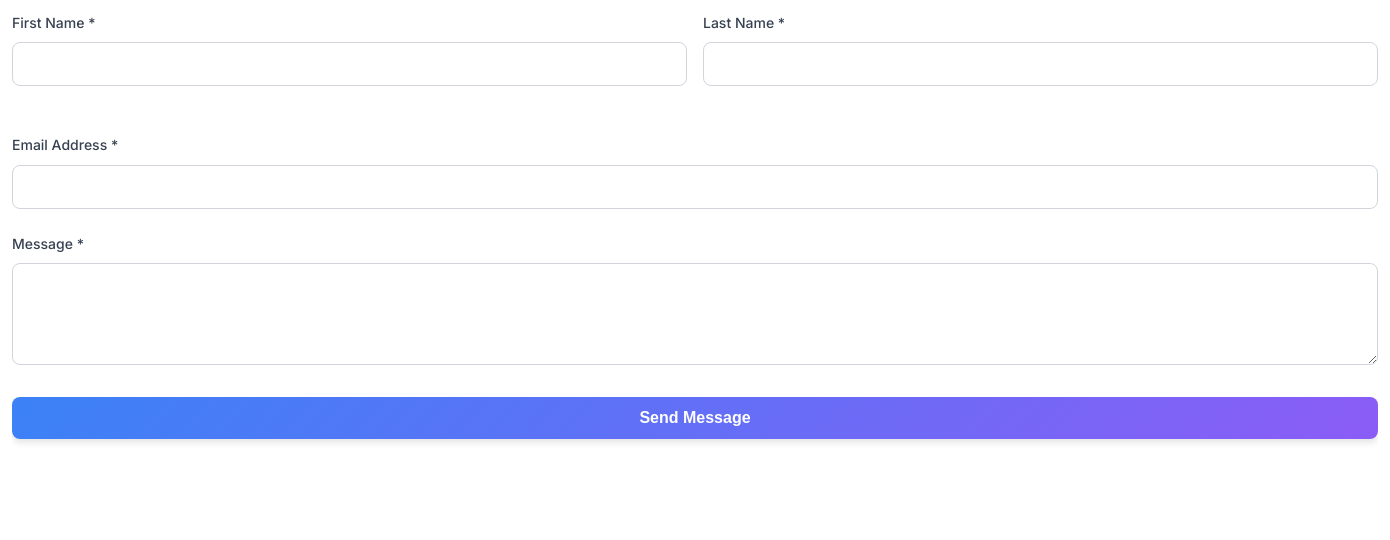
ContactForm Component › shows validation errors for empty required fields
Click the button "Send Message".
click(695, 418)  # box [12,397,1378,439]
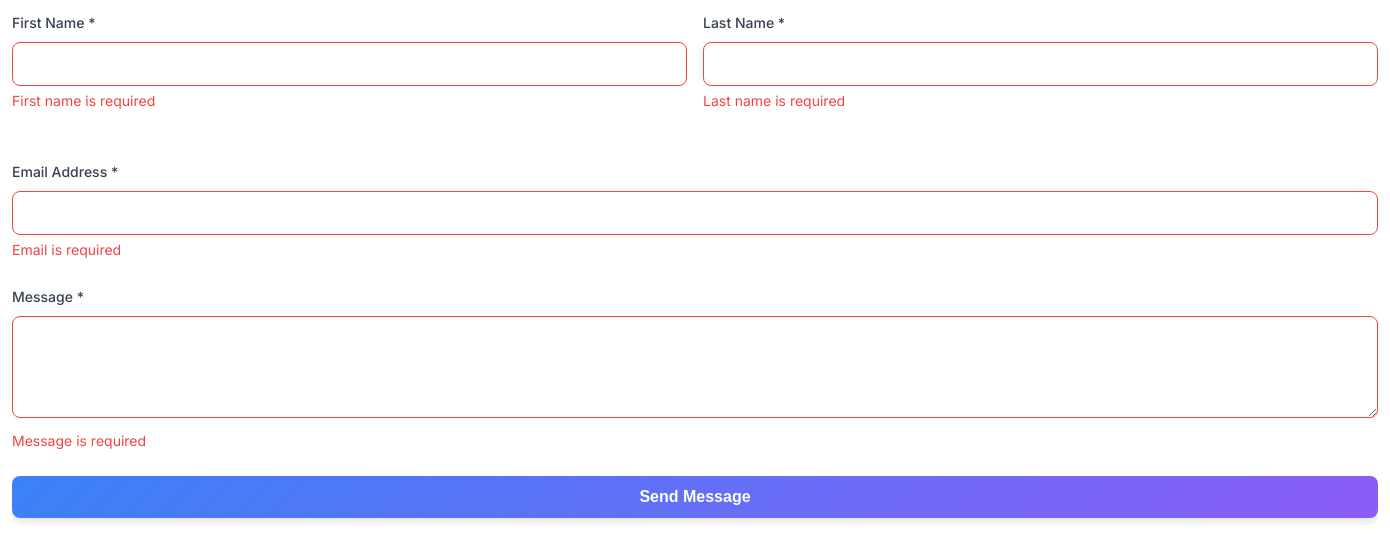
Expected: the text "First name is required" is shown, [12,92,155,109]
